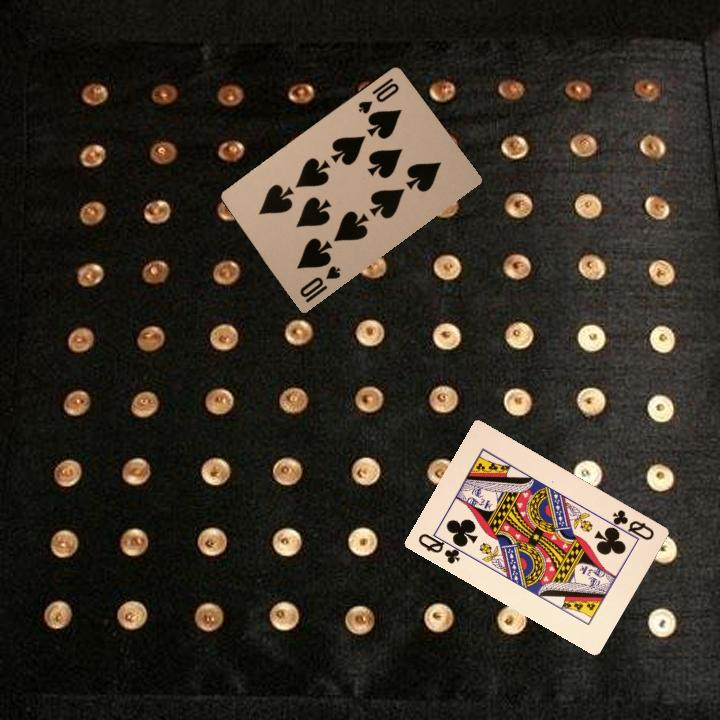10s: (354, 73, 402, 117), (294, 262, 343, 305)
Qc: (414, 529, 469, 567), (604, 505, 657, 544)
